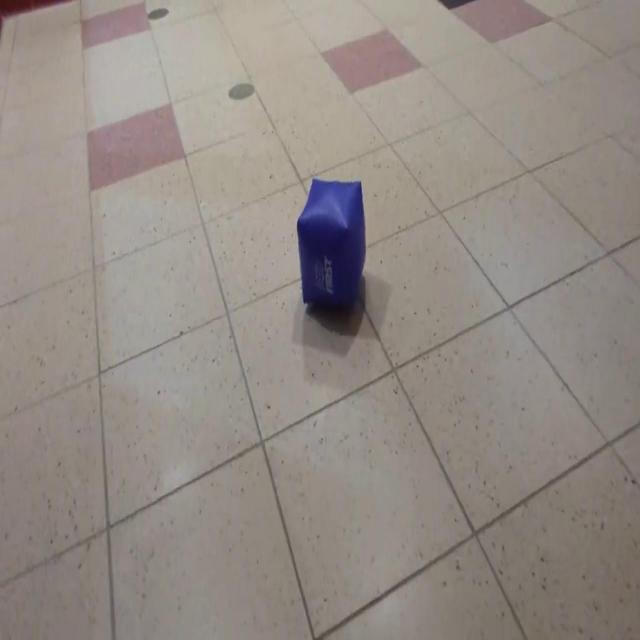frc_cube: (298, 175, 366, 321)
